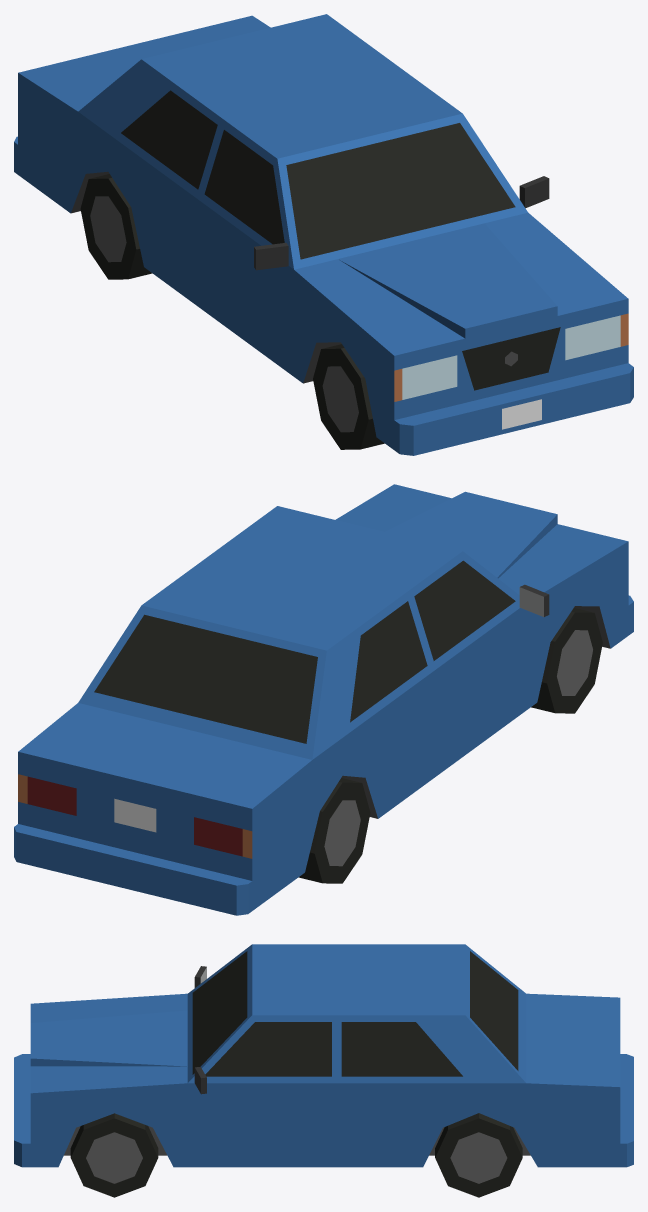
The model's file is Veh_Sedan_02_Blue.obj.
3 views of the same model, one above another, from view 1: azimuth 30°, elevation 25°; view 2: azimuth 150°, elevation 25°; view 3: azimuth 270°, elevation 25° (orthographic). The views are drawn at different scales.
Size of the model in its own units: 1.16 by 0.8379 by 2.72.
